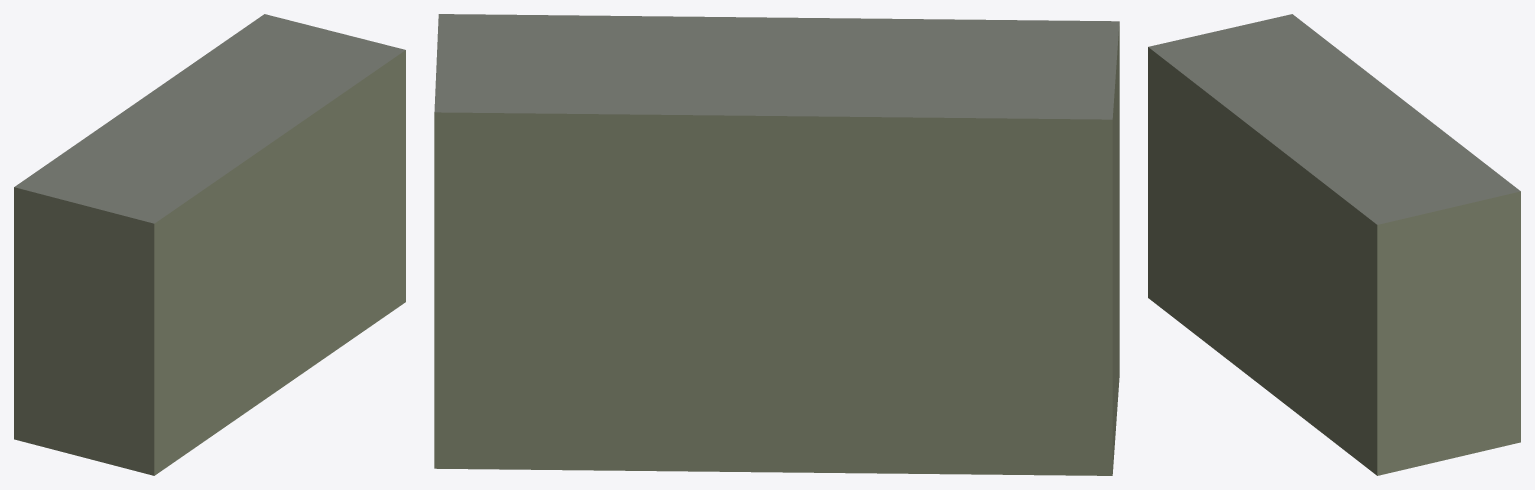
The model's file is nyc-1015270-0.glb.
The picture shows the model from 3 angles, left to right: view 1: azimuth 30°, elevation 25°; view 2: azimuth 150°, elevation 25°; view 3: azimuth 270°, elevation 25°; orthographic projection. The views are drawn at different scales.
Visible parts, largest first — view 1: nyc-1015270-0; view 2: nyc-1015270-0; view 3: nyc-1015270-0.
Part boxes in pixels (x1,y1,x2,y2): nyc-1015270-0: (14,14,405,475); nyc-1015270-0: (434,14,1119,475); nyc-1015270-0: (1148,14,1520,475).
Size of the model in its own units: 18.22 by 10.11 by 13.61.
